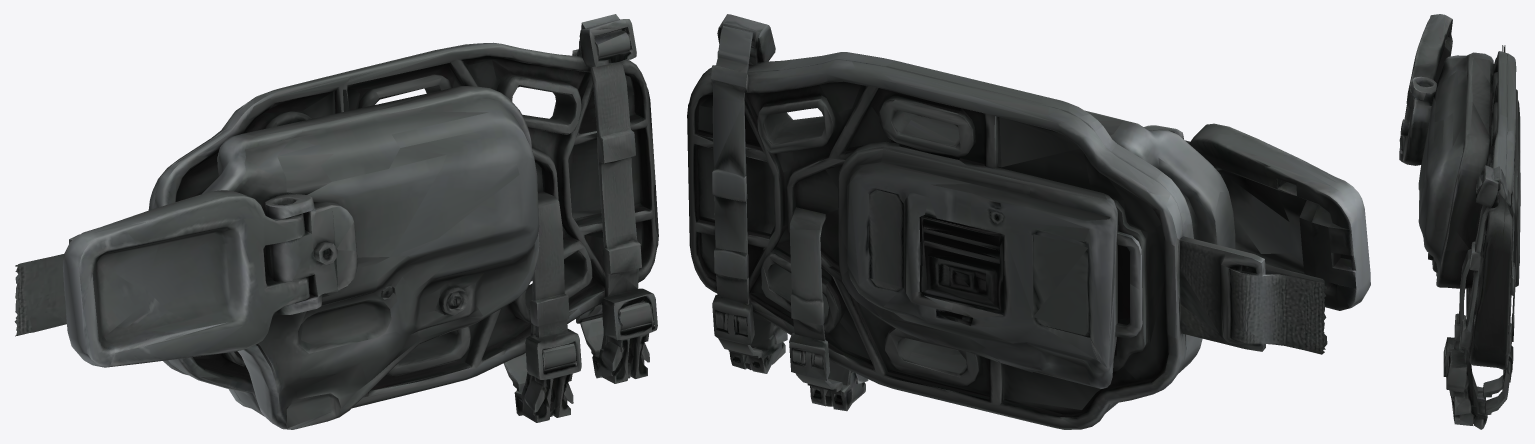
File: holster.glb
3 views of the same model, side by side, from view 1: azimuth 30°, elevation 25°; view 2: azimuth 150°, elevation 25°; view 3: azimuth 270°, elevation 25° (orthographic). The views are drawn at different scales.
Parts seen in each view (by area): view 1: Drop_Leg_Holster; view 2: Drop_Leg_Holster; view 3: Drop_Leg_Holster.
Part boxes in pixels (bbox=[...]): Drop_Leg_Holster: bbox=[14, 14, 658, 429]; Drop_Leg_Holster: bbox=[687, 14, 1370, 429]; Drop_Leg_Holster: bbox=[1399, 14, 1520, 429].
Bounding box in the file's own units: 0.3105 × 0.1759 × 0.0721.
Materials: 1 (1 with a texture image).
